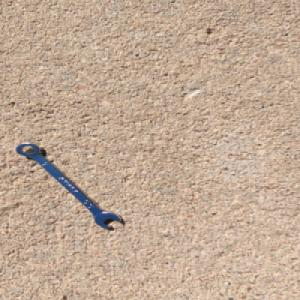Wrench: (14, 142, 123, 232)
